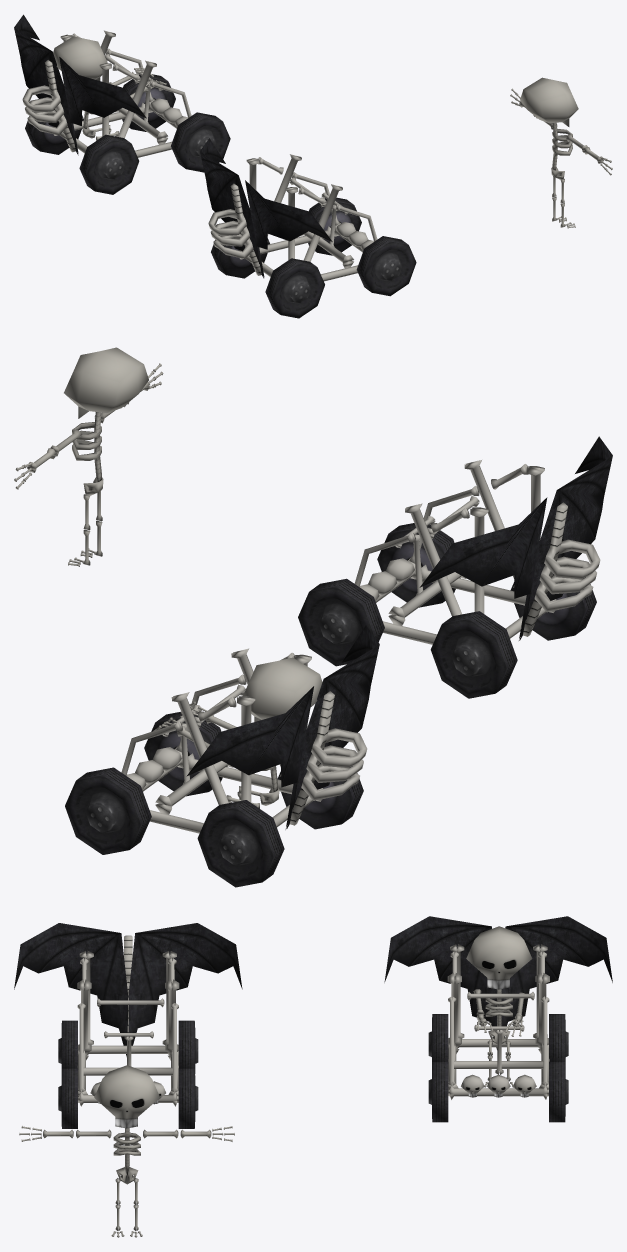
File: bonesAndCar_fbx.FBX
The picture shows the model from 3 angles, top to bottom: view 1: azimuth 30°, elevation 25°; view 2: azimuth 150°, elevation 25°; view 3: azimuth 270°, elevation 25°; orthographic projection. The views are drawn at different scales.
Parts seen in each view (by area): view 1: car_02, car_01, bones_TPose, bones_inCar; view 2: car_02, car_01, bones_TPose, bones_inCar; view 3: car_02, car_01, bones_TPose, bones_inCar.
Boxes of the visible parts, x1,y1,x2,y2 form: car_02: [200, 138, 416, 318]; car_01: [14, 14, 230, 194]; bones_TPose: [510, 77, 612, 228]; bones_inCar: [53, 36, 166, 140]; car_02: [298, 436, 612, 698]; car_01: [65, 625, 379, 887]; bones_TPose: [14, 347, 163, 566]; bones_inCar: [153, 657, 322, 808]; car_02: [14, 923, 242, 1128]; car_01: [384, 916, 612, 1122]; bones_TPose: [19, 1065, 234, 1237]; bones_inCar: [466, 926, 532, 1087].
Bounding box in the file's own units: 103 × 38.98 × 135.
Materials: 2 (2 with a texture image).
